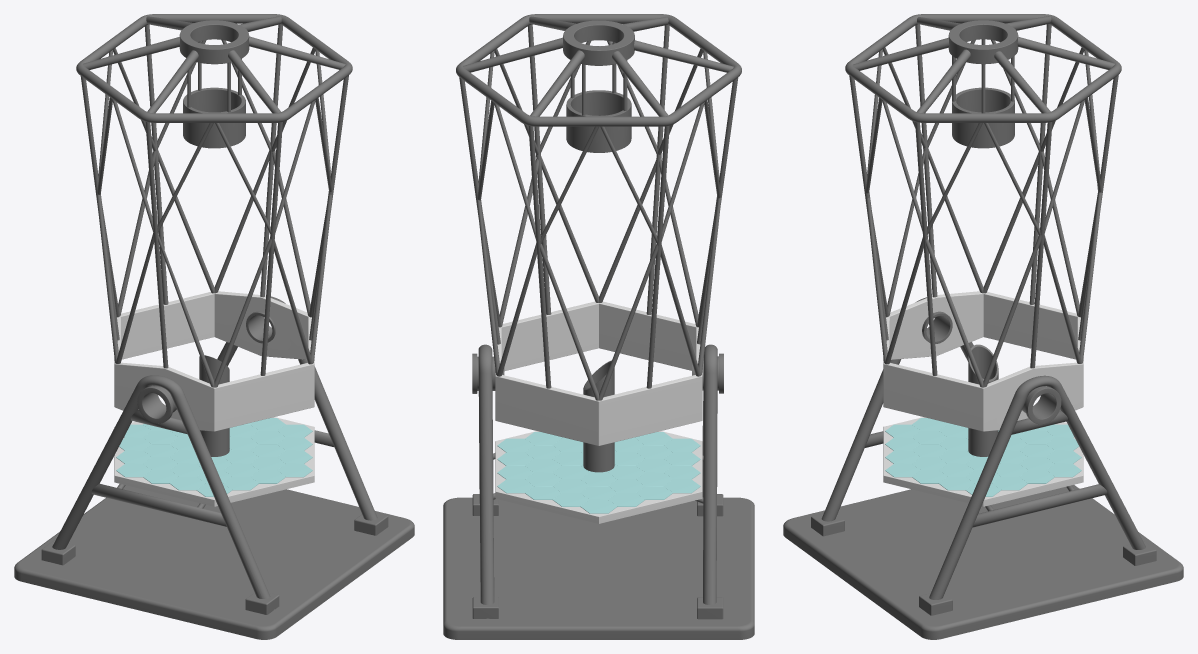
The model's file is Keck_Telescope_First_Trial.fbx.
The picture shows the model from 3 angles, left to right: view 1: azimuth 30°, elevation 25°; view 2: azimuth 150°, elevation 25°; view 3: azimuth 270°, elevation 25°; orthographic projection. The views are drawn at different scales.
Visible parts, largest first — view 1: Foundation, Elevation_Ring, Legs1 (×2), Spider_Frame, Secondary_M_Bottom, Primary_Mirror, Secondary_M_Top, Nasmyth (×2), Armature2, Leg_4, Leg_3, Leg_1 (+22 smaller); view 2: Foundation, Elevation_Ring, Legs1 (×2), Spider_Frame, Primary_Mirror, Secondary_M_Bottom, Secondary_M_Top, Leg_1, Leg_2, Shell, Leg_4, Leg_5 (+24 smaller); view 3: Foundation, Elevation_Ring, Legs1 (×2), Spider_Frame, Secondary_M_Bottom, Primary_Mirror, Secondary_M_Top, Nasmyth (×2), Armature2, Shell, Leg_5, Leg_6 (+20 smaller).
Boxes of the visible parts, left/top/right/bottom form: Foundation: left=14, top=485, right=414, bottom=639; Elevation_Ring: left=114, top=291, right=314, bottom=431; Legs1 (×2): left=52, top=296, right=377, bottom=610; Spider_Frame: left=76, top=14, right=352, bottom=122; Secondary_M_Bottom: left=183, top=87, right=245, bottom=148; Primary_Mirror: left=114, top=417, right=314, bottom=506; Secondary_M_Top: left=179, top=20, right=249, bottom=64; Nasmyth (×2): left=137, top=311, right=275, bottom=423; Armature2: left=91, top=483, right=226, bottom=526; Leg_4: left=260, top=122, right=282, bottom=375; Leg_3: left=145, top=122, right=168, bottom=368; Leg_1: left=144, top=24, right=168, bottom=304; Foundation: left=443, top=497, right=754, bottom=639; Elevation_Ring: left=495, top=301, right=702, bottom=445; Legs1 (×2): left=478, top=344, right=717, bottom=618; Spider_Frame: left=456, top=14, right=741, bottom=126; Primary_Mirror: left=495, top=431, right=702, bottom=523; Secondary_M_Bottom: left=566, top=90, right=631, bottom=152; Secondary_M_Top: left=563, top=20, right=634, bottom=65; Leg_1: left=528, top=125, right=551, bottom=388; Leg_2: left=646, top=125, right=669, bottom=388; Shell: left=583, top=360, right=614, bottom=472; Leg_4: left=646, top=25, right=669, bottom=314; Leg_5: left=527, top=24, right=551, bottom=314; Foundation: left=783, top=485, right=1183, bottom=639; Elevation_Ring: left=883, top=291, right=1083, bottom=431; Legs1 (×2): left=817, top=297, right=1145, bottom=599; Spider_Frame: left=845, top=14, right=1121, bottom=122; Secondary_M_Bottom: left=952, top=87, right=1014, bottom=148; Primary_Mirror: left=883, top=417, right=1083, bottom=506; Secondary_M_Top: left=948, top=20, right=1018, bottom=64; Nasmyth (×2): left=922, top=311, right=1061, bottom=424; Armature2: left=972, top=484, right=1107, bottom=527; Shell: left=968, top=344, right=998, bottom=456; Leg_5: left=915, top=122, right=937, bottom=375; Leg_6: left=1030, top=122, right=1052, bottom=368.
Size of the model in its own units: 17.32 by 24.85 by 17.32.
